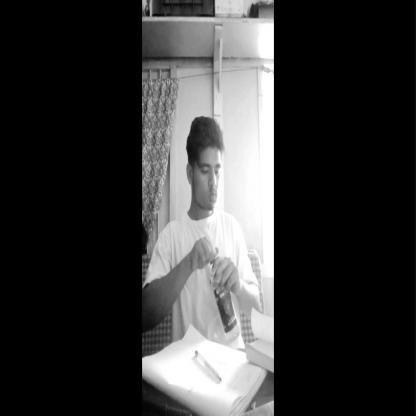Distracted: (186, 117, 226, 221)
